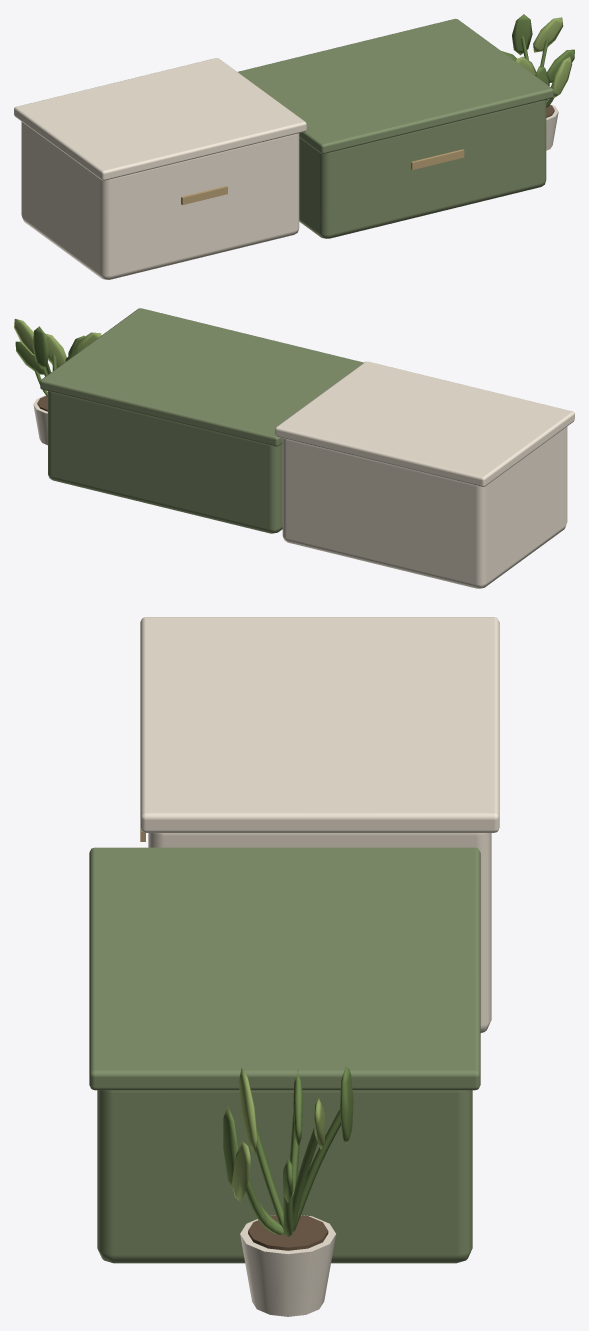
Rendered from bedroom_ref_wardrobe_top.glb.
3 renders of one model, top to bottom at view 1: azimuth 30°, elevation 25°; view 2: azimuth 150°, elevation 25°; view 3: azimuth 270°, elevation 25°, orthographic. The views are drawn at different scales.
Size of the model in its own units: 1.85 by 0.4156 by 0.645.
